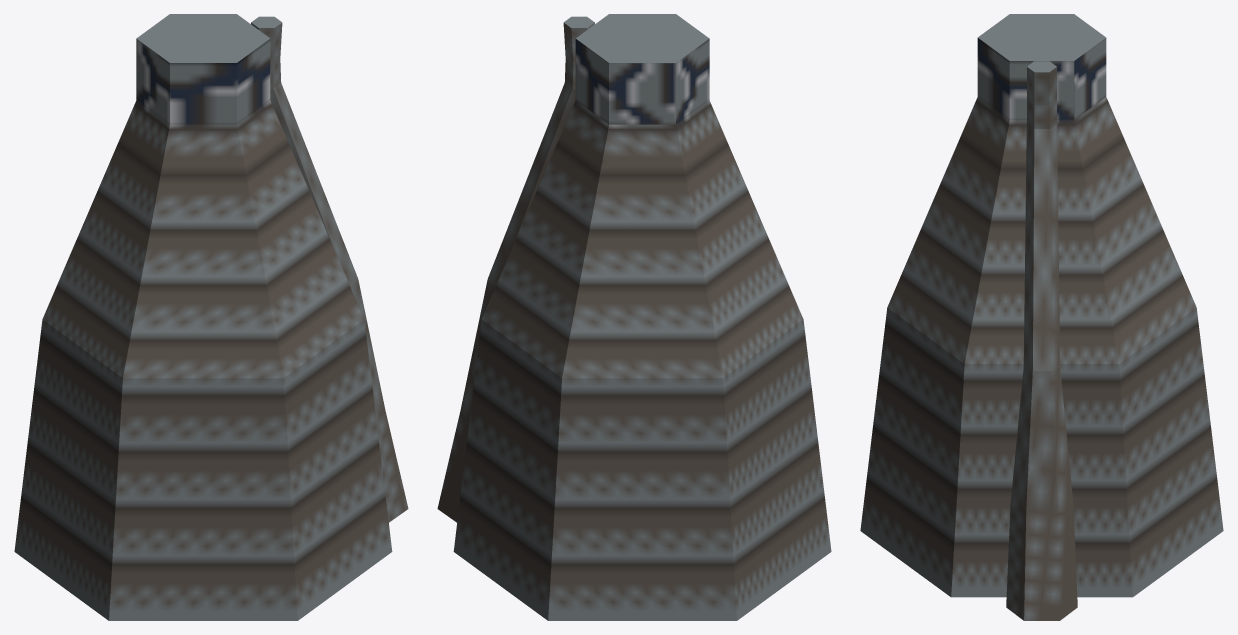
File: medium_rocket_nozzlel.obj
3 renders of one model, left to right at view 1: azimuth 30°, elevation 25°; view 2: azimuth 150°, elevation 25°; view 3: azimuth 270°, elevation 25°, orthographic. The views are drawn at different scales.
Visible parts, largest first — view 1: Cylinder; view 2: Cylinder; view 3: Cylinder.
Boxes of the visible parts, x1,y1,x2,y2 form: Cylinder: [14, 14, 408, 620]; Cylinder: [437, 14, 831, 620]; Cylinder: [860, 14, 1223, 620].
Size of the model in its own units: 1.67 by 2.42 by 1.61.
